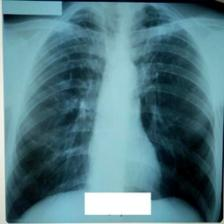tuberculosis: (6, 4, 220, 222)
